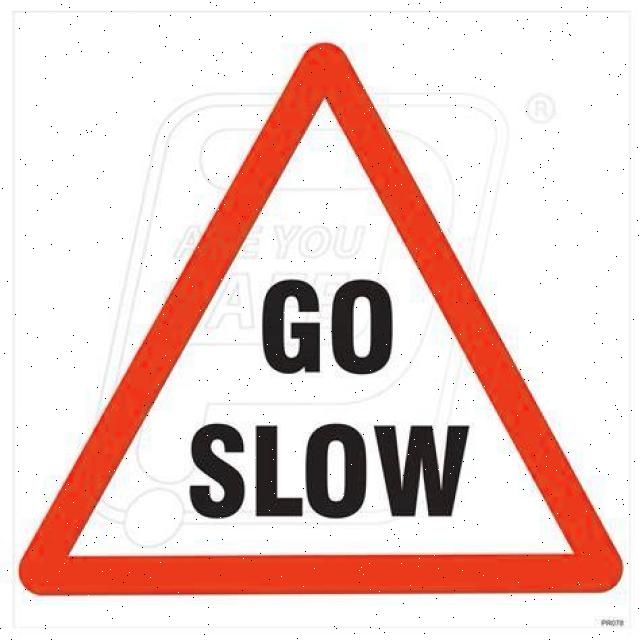go_slow: (19, 42, 615, 595)
